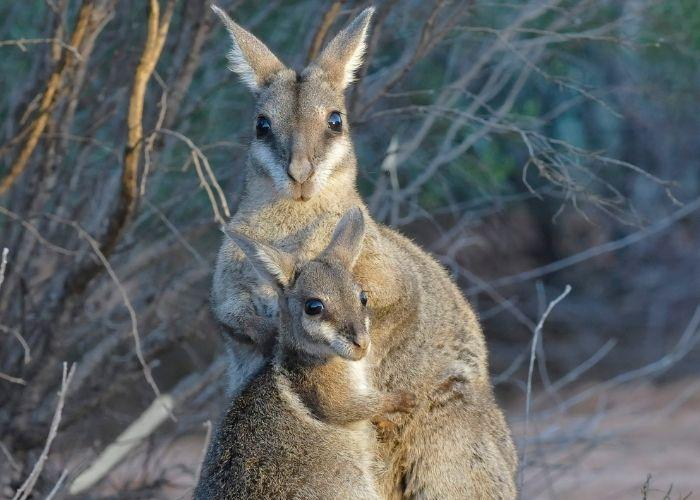Bridled-nail-tail wallaby: (207, 4, 519, 500), (191, 206, 419, 500)
